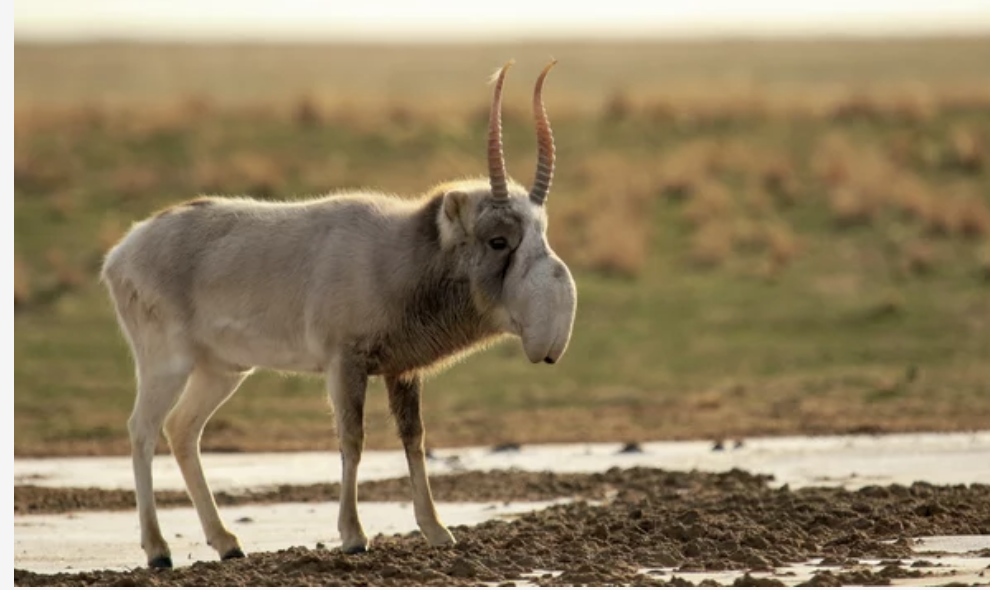saiga: (96, 55, 593, 585)
